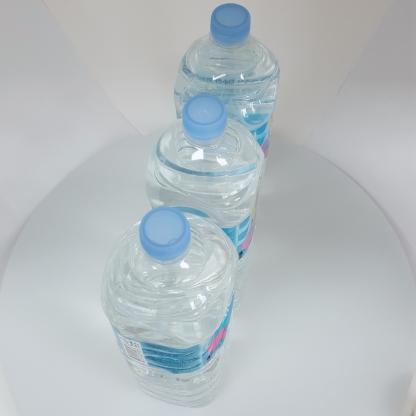--------1-5L: (100, 206, 239, 408)
